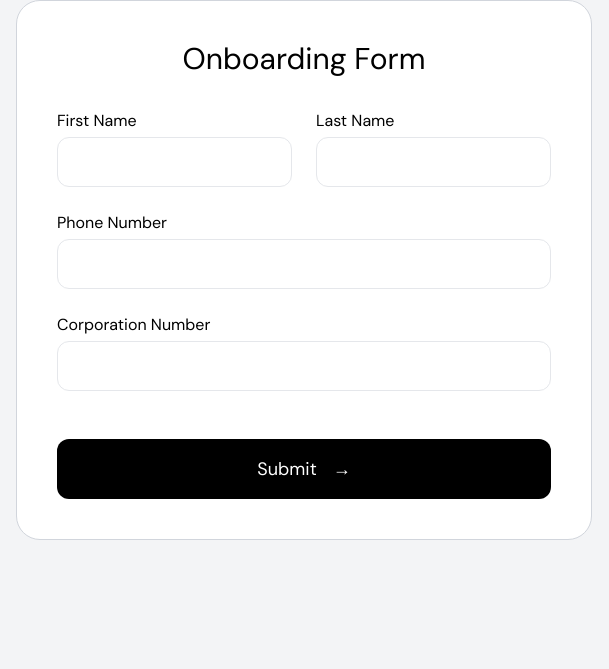
OnboardForm › shows validation errors on submit with empty fields
Click the button "Submit →". click: point(304, 469)
box: [57,439,551,499]
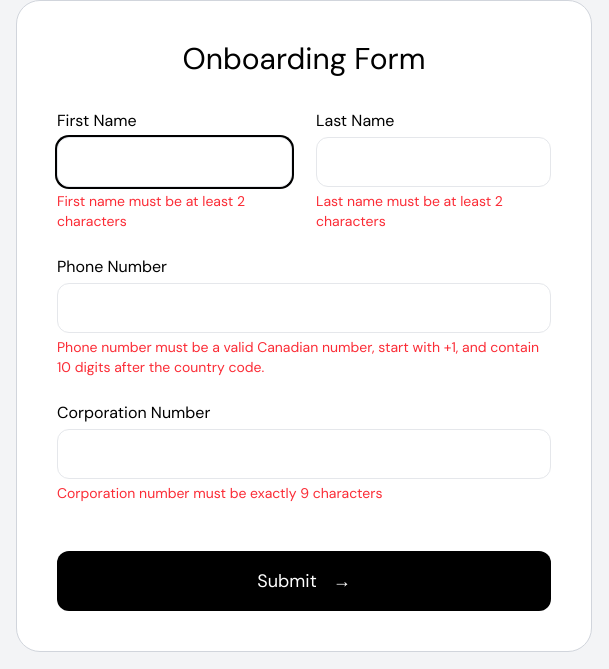
Check: the text "First name must be at least 2 characters" is shown, box [57,192,245,230]
Check: the text "Last name must be at least 2 characters" is shown, box [316,192,503,230]
Check: the text "Phone number must be a valid Canadian number, start with +1, and contain 10 digits after the country code." is shown, box [57,338,539,376]
